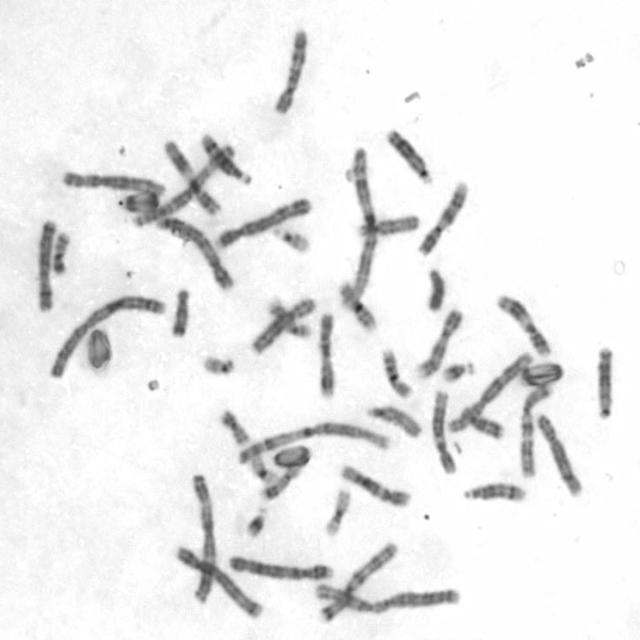A1: (233, 418, 392, 466), (337, 144, 380, 308)
A2: (45, 291, 167, 381), (310, 575, 463, 617)
A3: (128, 139, 240, 231), (188, 469, 218, 604)
B4: (210, 193, 314, 252), (226, 550, 336, 582)
B5: (141, 205, 237, 293), (176, 543, 270, 622)
C10: (269, 23, 310, 116), (314, 307, 338, 402)
C11: (161, 136, 222, 218), (493, 289, 554, 359)
C12: (336, 459, 412, 509), (428, 387, 458, 476)
C6: (445, 349, 533, 435), (59, 166, 166, 198)
C7: (316, 539, 401, 626), (517, 380, 557, 479)
C8: (533, 408, 584, 499), (246, 294, 317, 356)
C9: (414, 176, 471, 257), (411, 304, 465, 381)
D13: (383, 124, 434, 188), (593, 340, 615, 420)
D14: (196, 129, 254, 187), (460, 478, 528, 504)
D15: (363, 400, 423, 440), (352, 210, 421, 239)
E16: (335, 277, 380, 333), (378, 343, 414, 401)
E17: (266, 296, 313, 340), (257, 463, 303, 501)
E18: (458, 402, 506, 441), (167, 284, 193, 338)
F19: (321, 486, 353, 536), (246, 452, 280, 486)
F20: (216, 406, 251, 447), (50, 227, 73, 276)
G21: (438, 356, 476, 385), (244, 502, 268, 539)
G22: (270, 222, 312, 256), (197, 350, 238, 378)
X: (32, 214, 58, 314)
Y: (422, 266, 448, 314)
